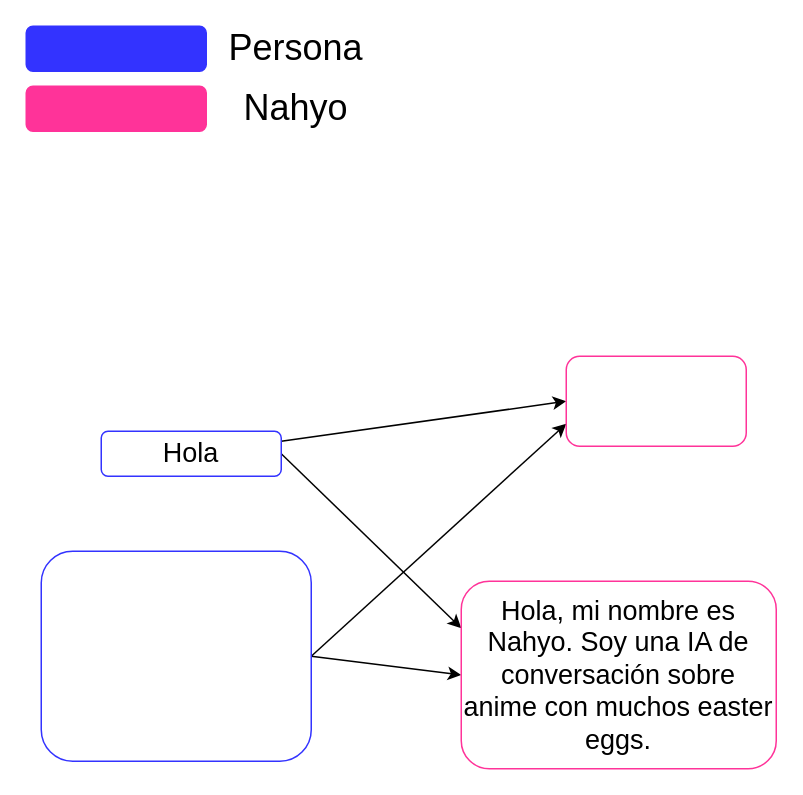
Image size: 803x795. Some labels were removed from this diagram. The shapes that lost their labels are listed below. From the top down, each one's centre as x and y in pixels, then its label:
(x=655, y=400): Hola, yo soy Nahyo n.n
(x=175, y=655): buen(a|o)s (dias|tardes|noches)
